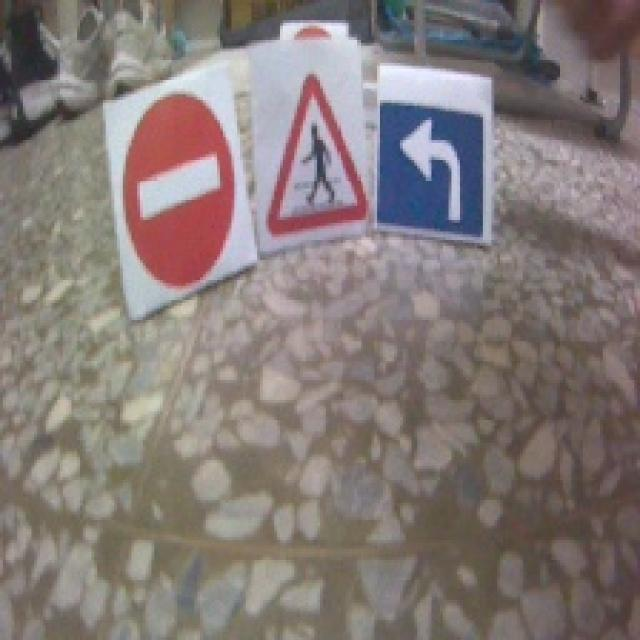DoNotEnterSign: (120, 94, 238, 289)
